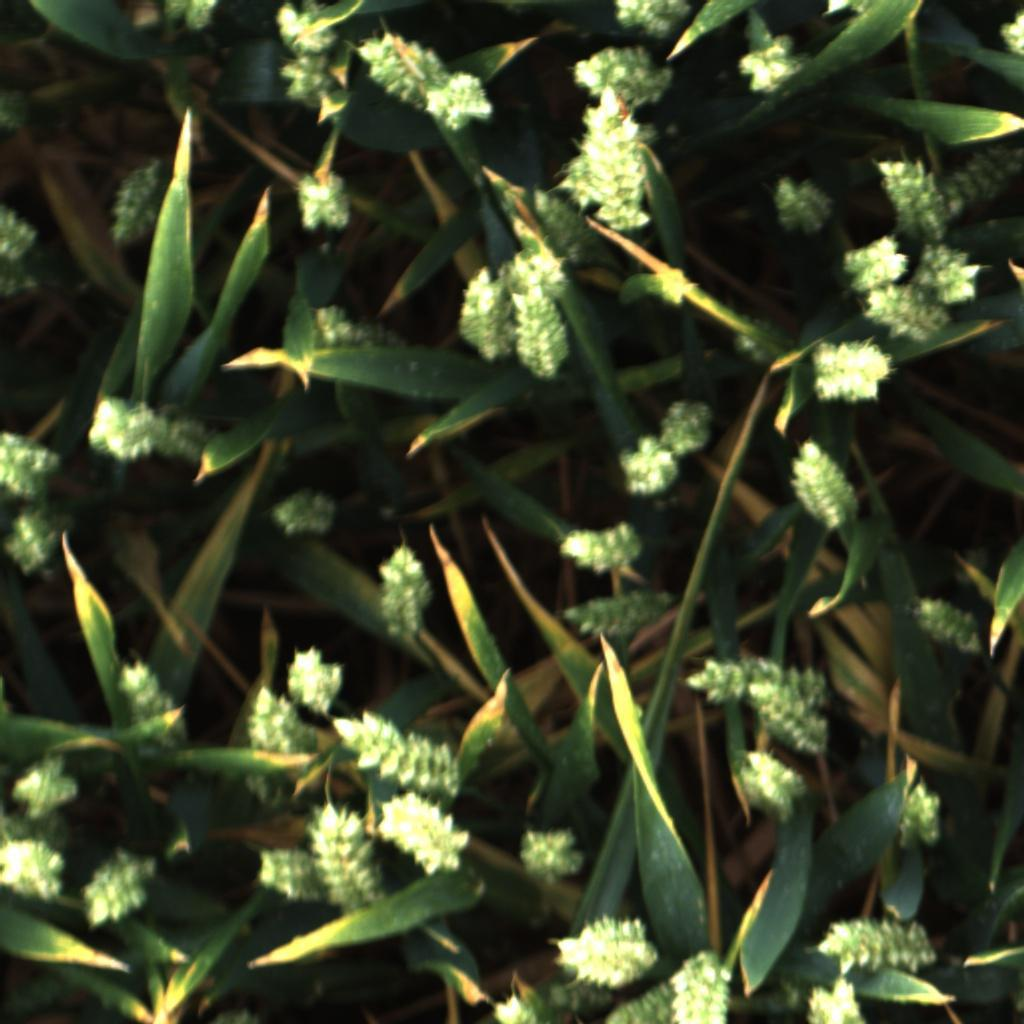0-0: (326, 708, 463, 796), (574, 84, 654, 233), (353, 25, 461, 120), (553, 912, 661, 992), (377, 791, 477, 876), (305, 801, 385, 907), (783, 437, 866, 537), (685, 652, 833, 707), (873, 154, 955, 253), (813, 912, 938, 974), (932, 138, 1022, 222), (451, 258, 518, 367), (561, 49, 681, 109), (507, 277, 572, 380), (804, 337, 901, 405), (744, 679, 833, 753), (80, 850, 158, 931), (557, 592, 681, 641), (859, 282, 956, 344), (529, 189, 605, 268), (374, 544, 437, 639), (83, 387, 154, 469), (555, 514, 645, 578), (766, 168, 839, 242), (666, 945, 733, 1024), (242, 685, 313, 759), (733, 747, 810, 815), (612, 434, 685, 505), (11, 749, 80, 823), (313, 293, 399, 351), (281, 645, 352, 715), (115, 657, 179, 734), (910, 596, 989, 658), (729, 37, 806, 100), (651, 390, 720, 460), (256, 483, 339, 541), (104, 168, 164, 248), (7, 505, 76, 574), (913, 241, 987, 305), (839, 229, 908, 297), (541, 971, 648, 1014), (516, 824, 589, 887), (292, 171, 360, 238), (424, 70, 496, 133), (889, 778, 951, 850), (729, 306, 799, 368), (251, 839, 315, 905), (494, 242, 568, 299), (0, 836, 68, 898), (1, 433, 60, 501), (601, 975, 682, 1024), (268, 0, 340, 55), (165, 407, 226, 466), (802, 975, 872, 1024), (275, 54, 337, 107), (606, 0, 691, 38), (549, 153, 604, 211), (2, 89, 67, 133), (0, 202, 41, 263), (157, 0, 218, 36), (0, 251, 44, 300), (488, 989, 539, 1024), (993, 7, 1024, 58)
